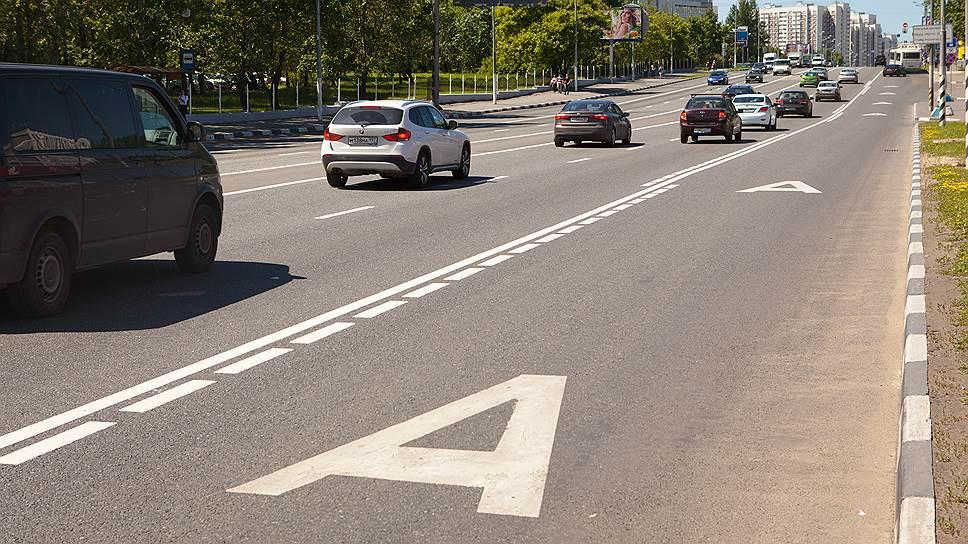bus_line: (0, 78, 912, 543)
